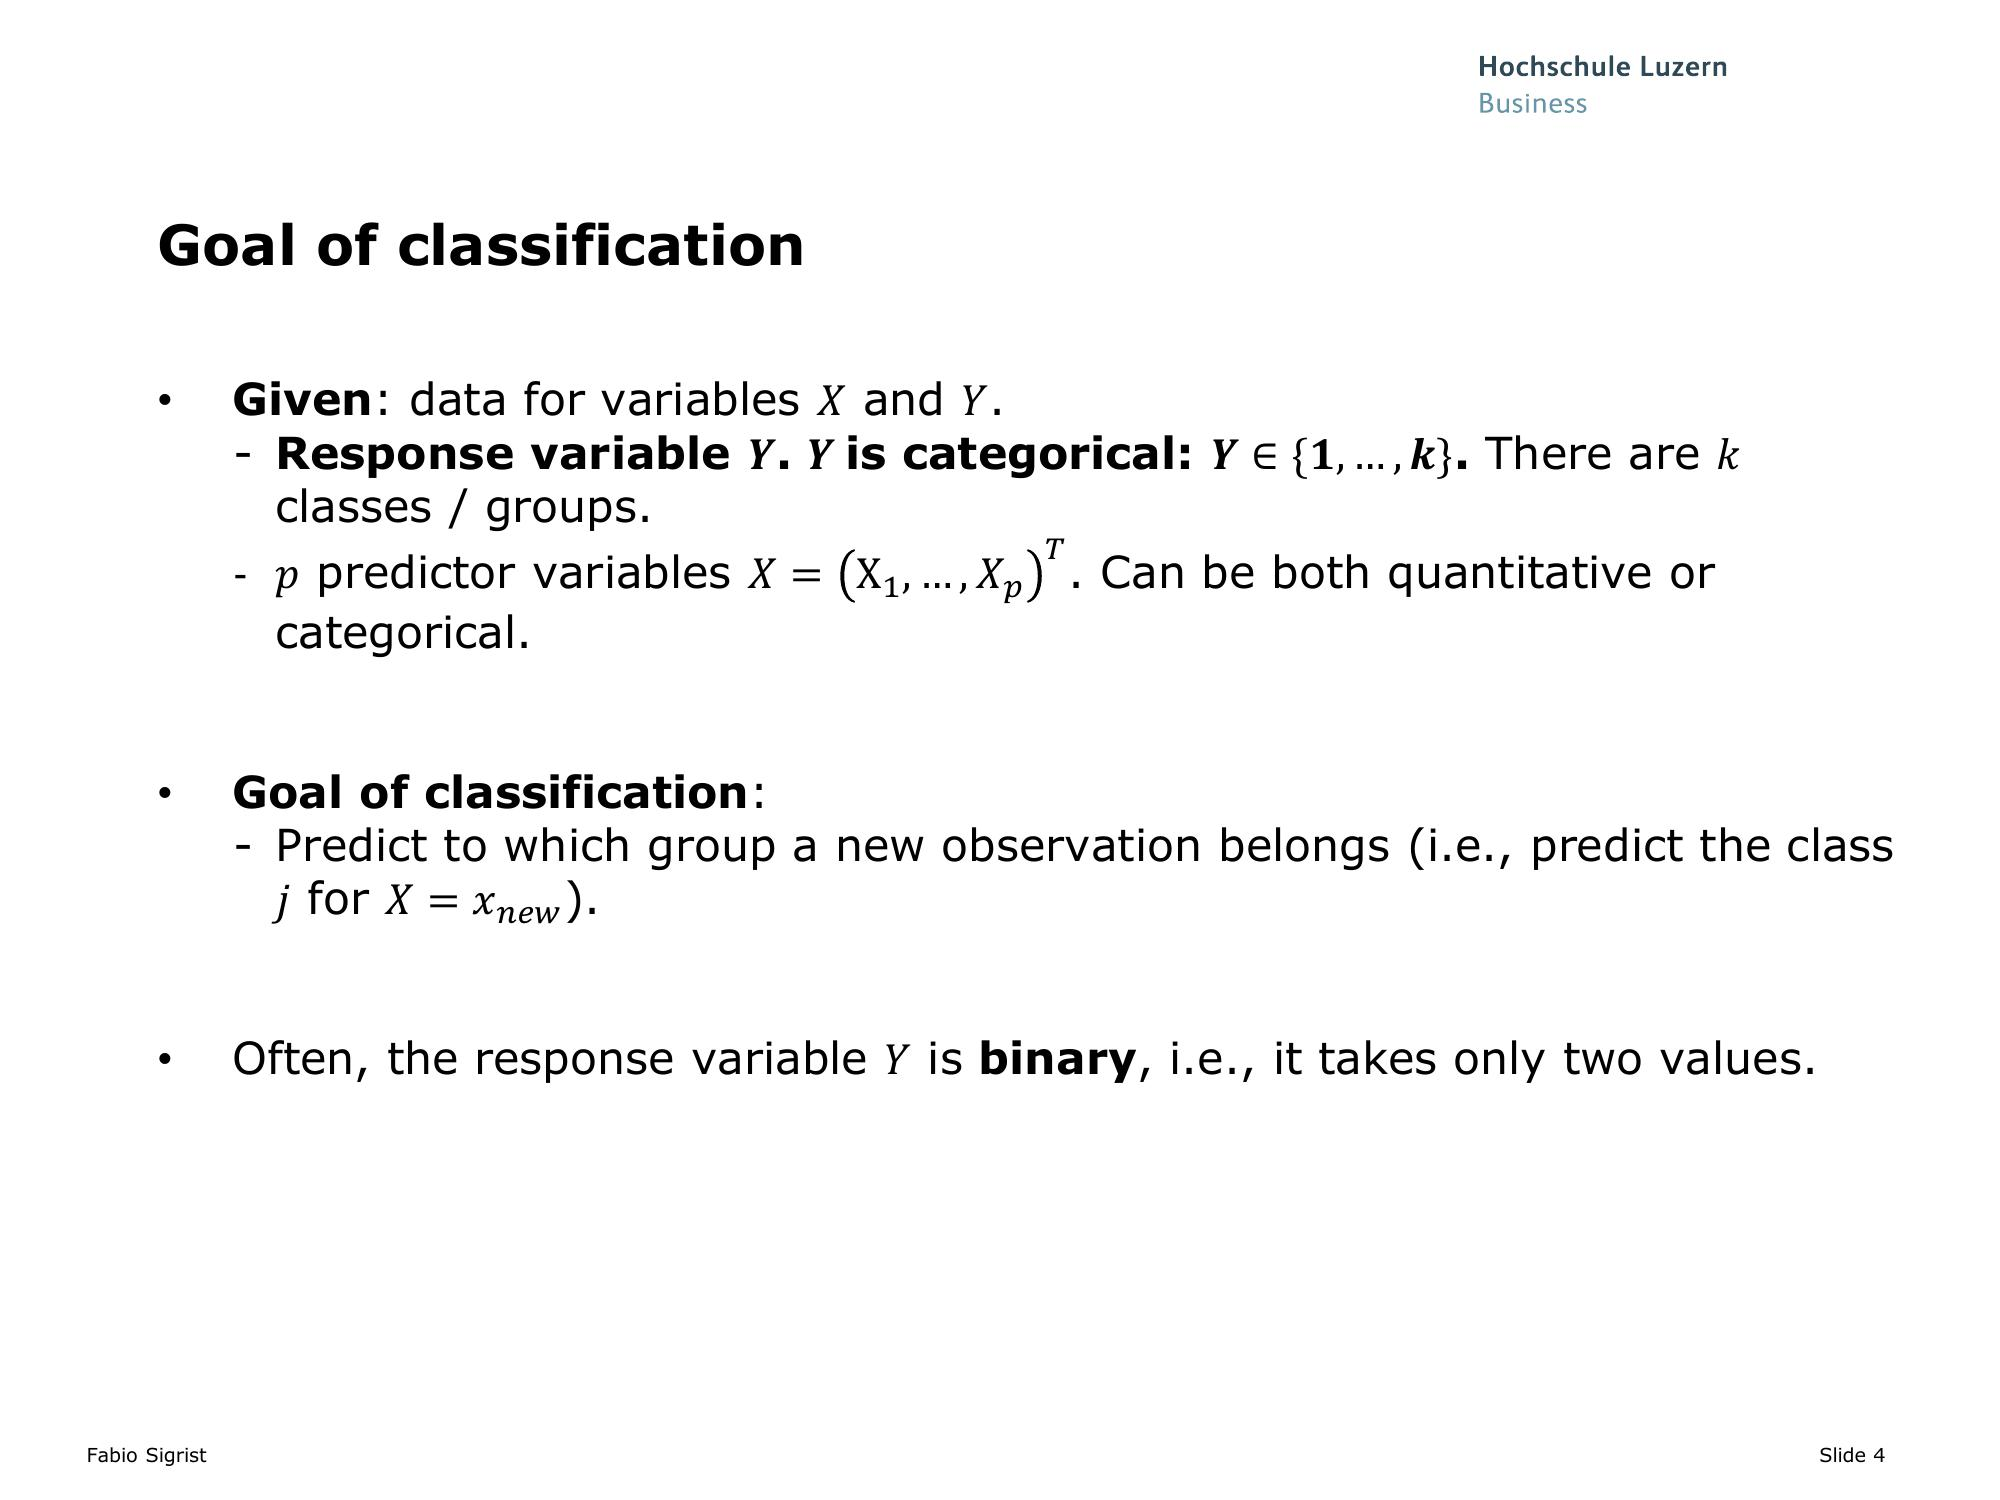Title: (143, 210, 806, 291)
